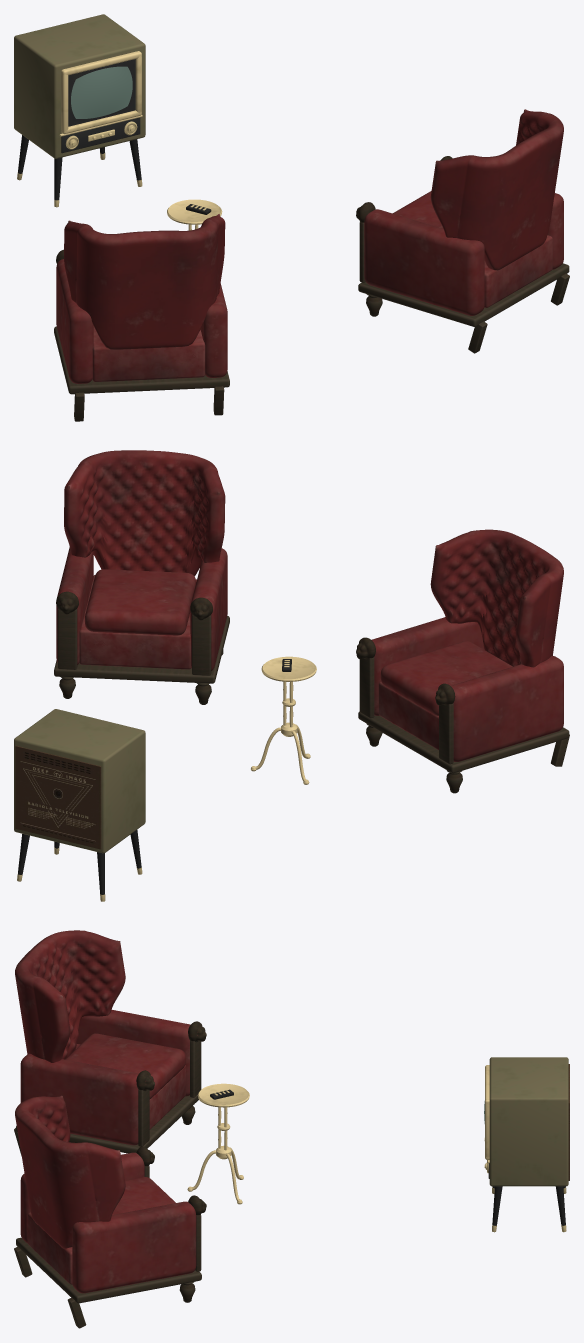
The model's file is white-room.glb.
3 views of the same model, one above another, from view 1: azimuth 30°, elevation 25°; view 2: azimuth 150°, elevation 25°; view 3: azimuth 270°, elevation 25° (orthographic). The views are drawn at different scales.
Visible parts, largest first — view 1: Chair_R, Chair_L, TV, TV_Screen, Table; view 2: Chair_R, Chair_L, TV, Table; view 3: Chair_L, Chair_R, TV, Table.
Boxes of the visible parts, x1=… form: Chair_R: x1=356, y1=109, x2=569, y2=353; Chair_L: x1=54, y1=214, x2=229, y2=421; TV: x1=14, y1=14, x2=145, y2=207; TV_Screen: x1=71, y1=66, x2=132, y2=118; Table: x1=167, y1=199, x2=222, y2=230; Chair_R: x1=54, y1=450, x2=229, y2=704; Chair_L: x1=356, y1=529, x2=569, y2=793; TV: x1=14, y1=709, x2=145, y2=901; Table: x1=251, y1=656, x2=316, y2=784; Chair_L: x1=14, y1=930, x2=206, y2=1155; Chair_R: x1=14, y1=1095, x2=206, y2=1328; TV: x1=484, y1=1057, x2=569, y2=1232; Table: x1=187, y1=1083, x2=249, y2=1204.
Size of what is drawn, in the model's own units: 3.17 by 1.17 by 3.24.
Materials: 4 (3 with a texture image).
